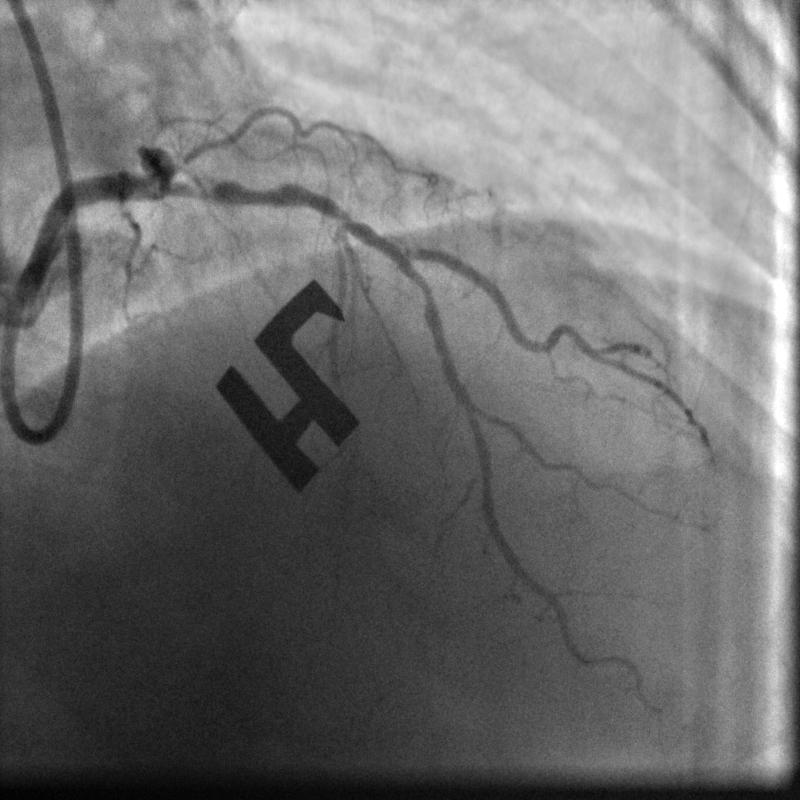Stenosis: (177, 173, 295, 206)
